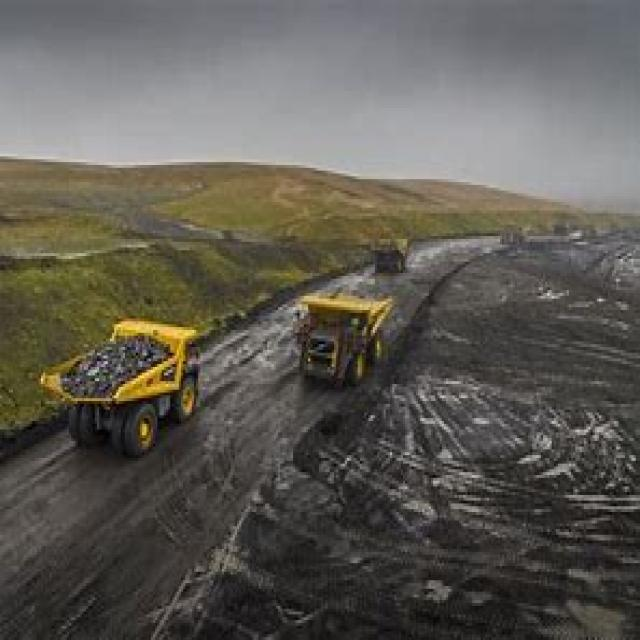dump_truck: (39, 307, 205, 458), (295, 276, 401, 395)
